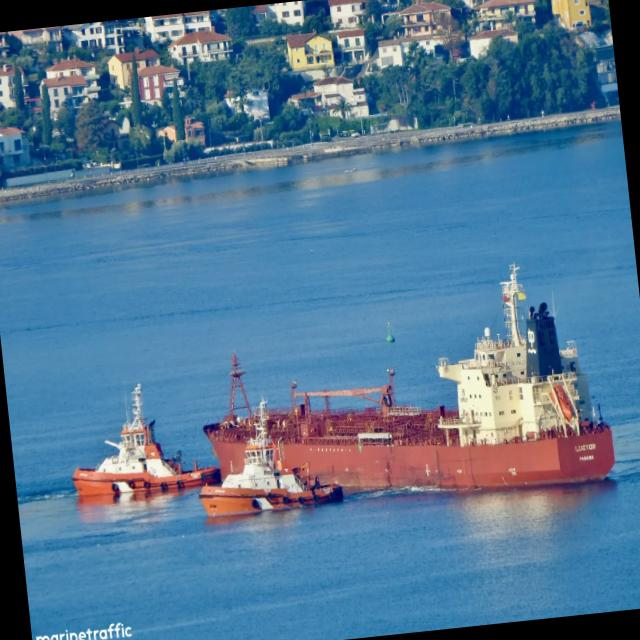Tanker: (202, 263, 614, 492)
Tug: (72, 383, 220, 498), (200, 419, 342, 517)
